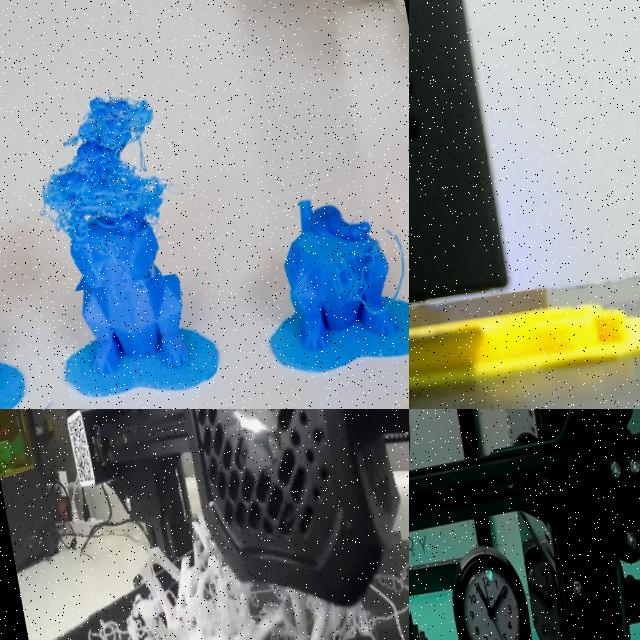spaghetti: (6, 49, 208, 296), (77, 539, 185, 640), (324, 230, 409, 337)
